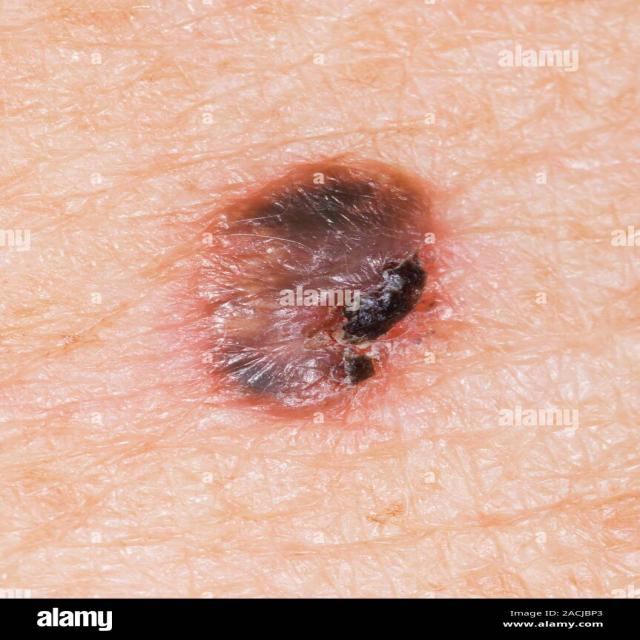Cancer: (142, 136, 508, 438)
